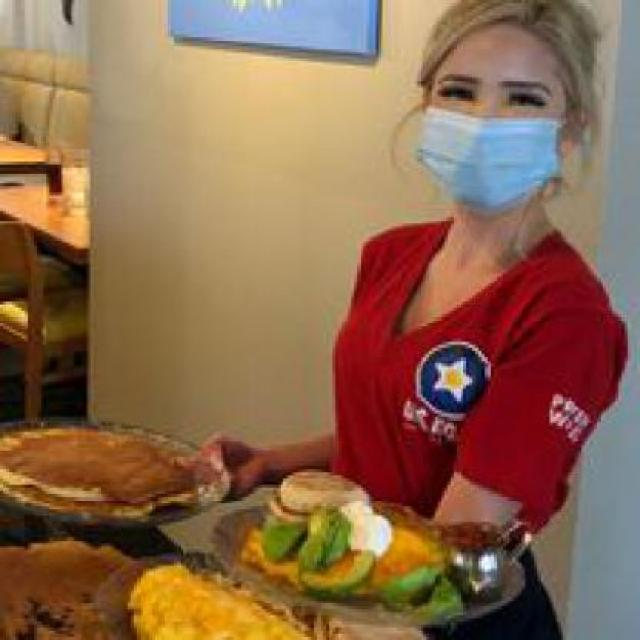omelette: (242, 515, 438, 591), (116, 558, 304, 637)
